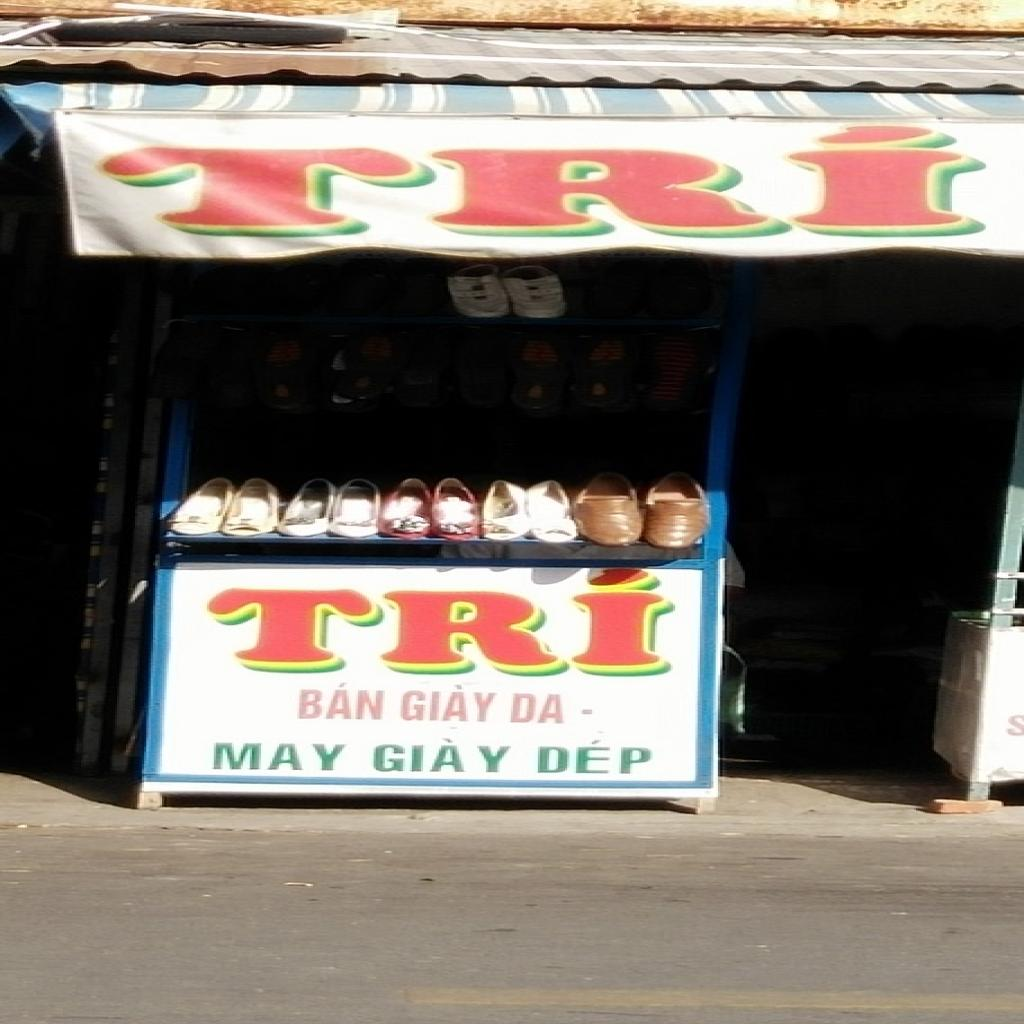text: (99, 124, 986, 236), (202, 566, 678, 675), (372, 736, 524, 776), (394, 684, 511, 724), (205, 742, 353, 773), (533, 740, 655, 777), (292, 681, 394, 723), (506, 692, 570, 726)
